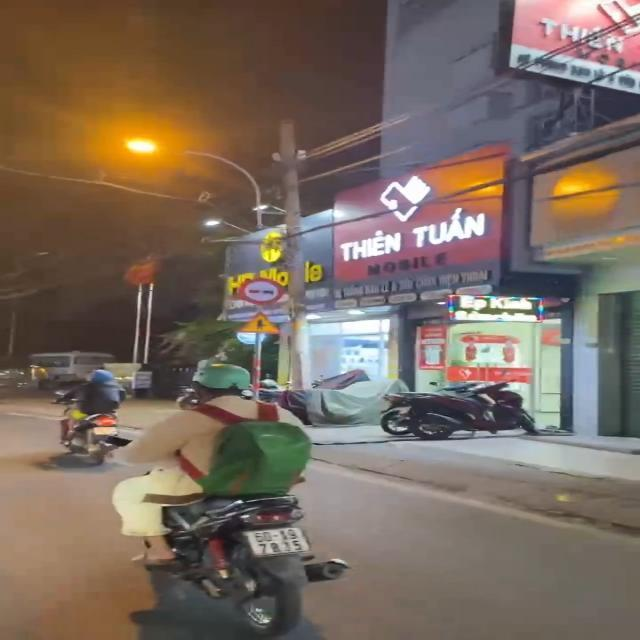125-cam-vuot: (236, 276, 286, 306)
207-giao-nhau-voi-duong-khong-uu-tien: (234, 308, 284, 334)
